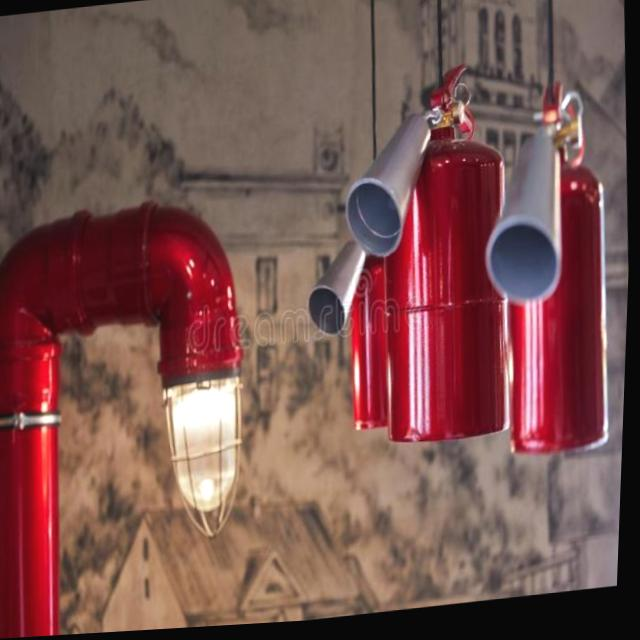FireExtinguisher: (328, 60, 526, 462), (466, 80, 628, 474), (297, 189, 438, 445)
